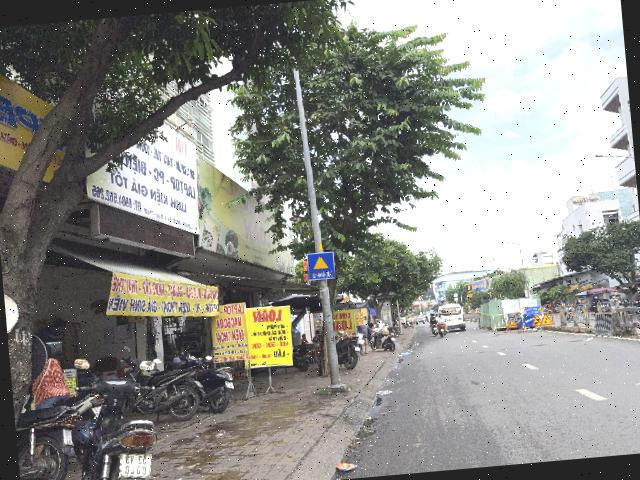khu-vuc-cho-phia-truoc: (306, 251, 335, 280)
